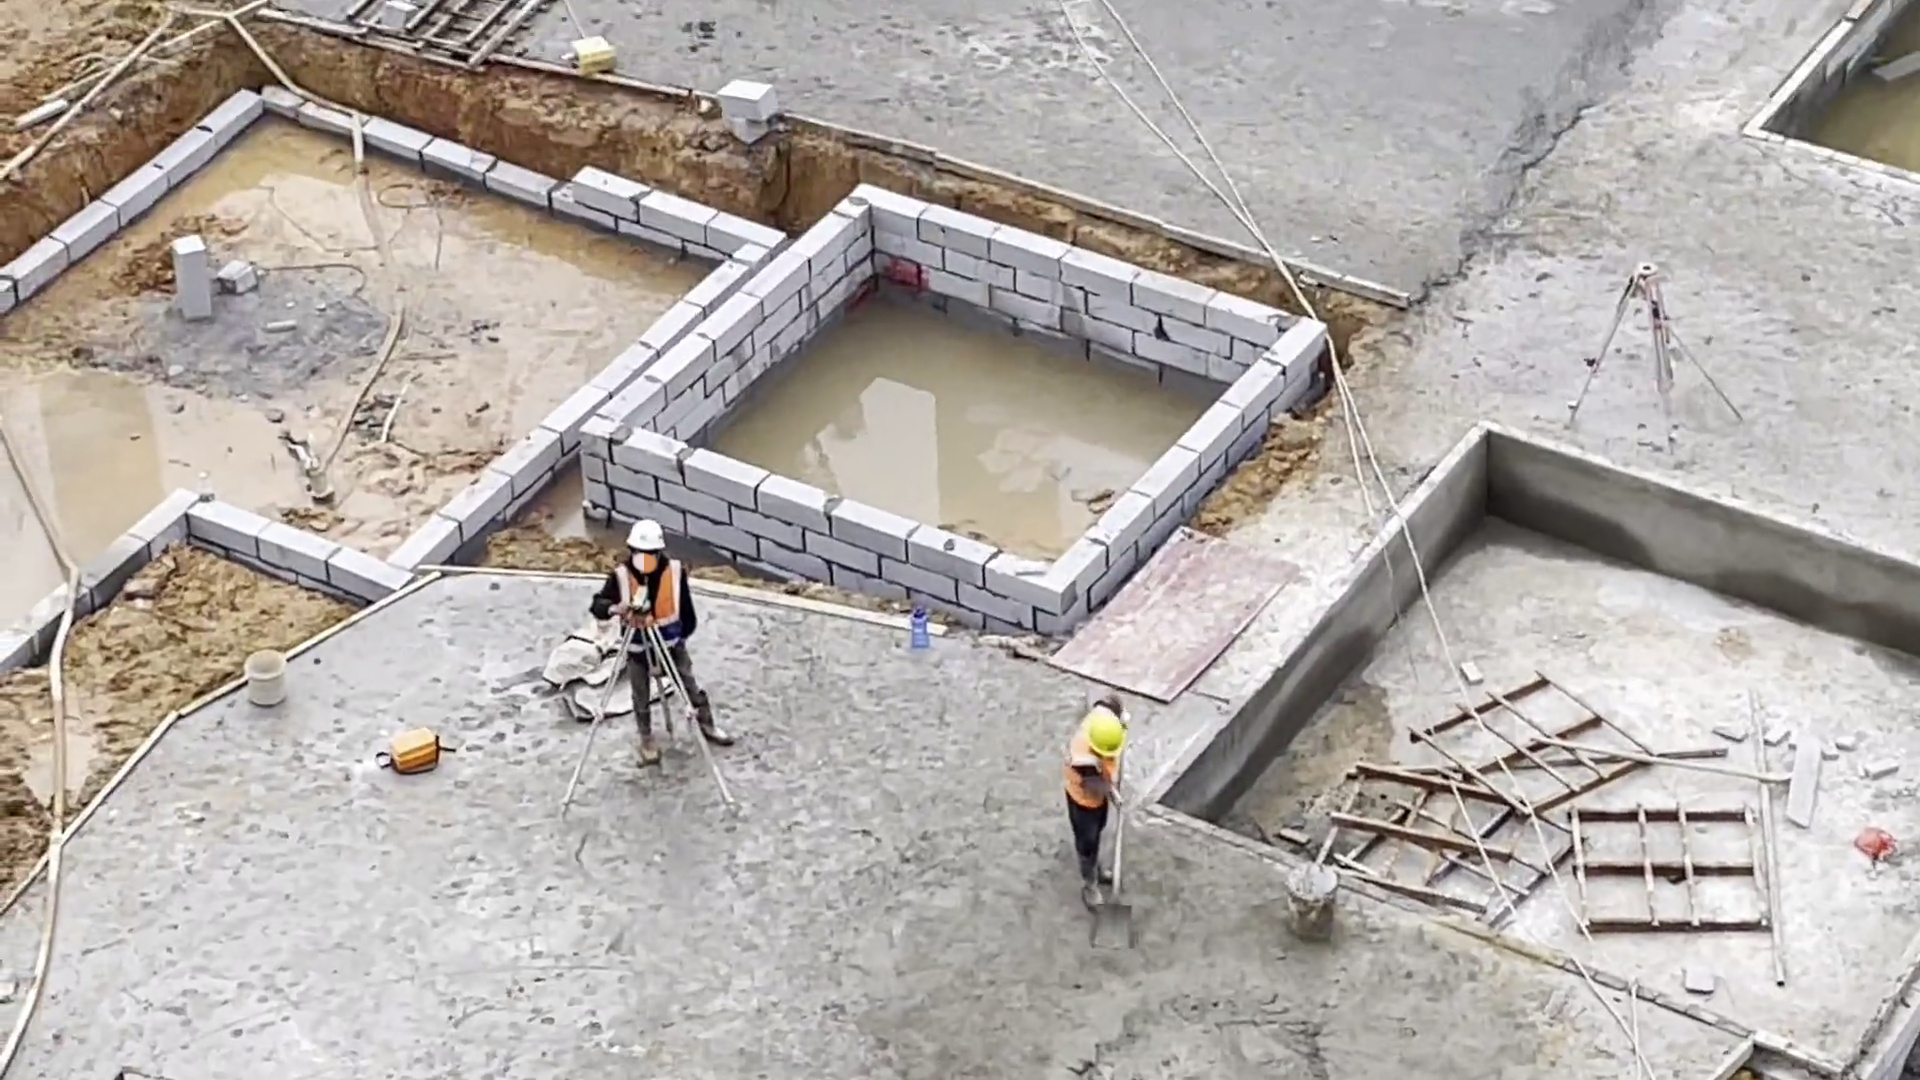helmet: (1086, 704, 1127, 759), (626, 516, 670, 554)
person: (582, 512, 733, 772), (1057, 703, 1140, 917)
vest: (611, 559, 686, 663), (1067, 723, 1128, 809)
